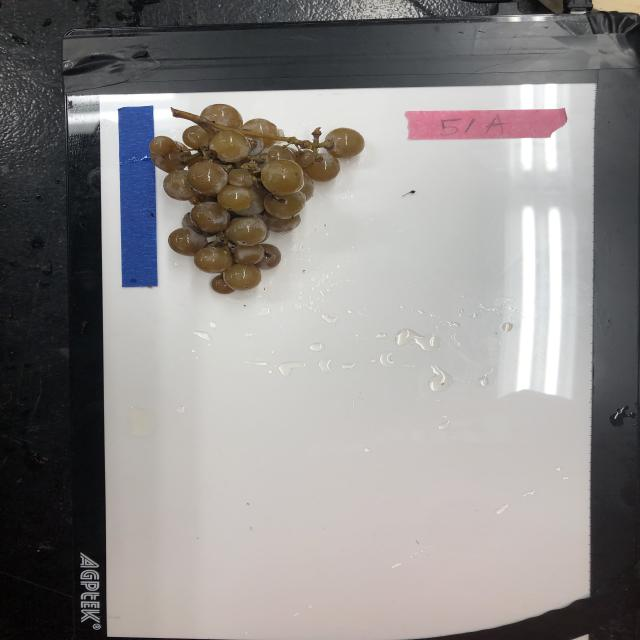grape_cluster: (152, 103, 368, 294)
index: (404, 108, 570, 139)
measure_label: (116, 105, 160, 288)
